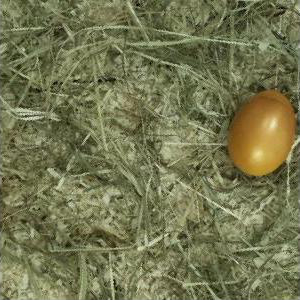egg: (228, 90, 296, 177)
